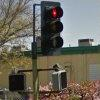Traffic light: (31, 0, 71, 57)
